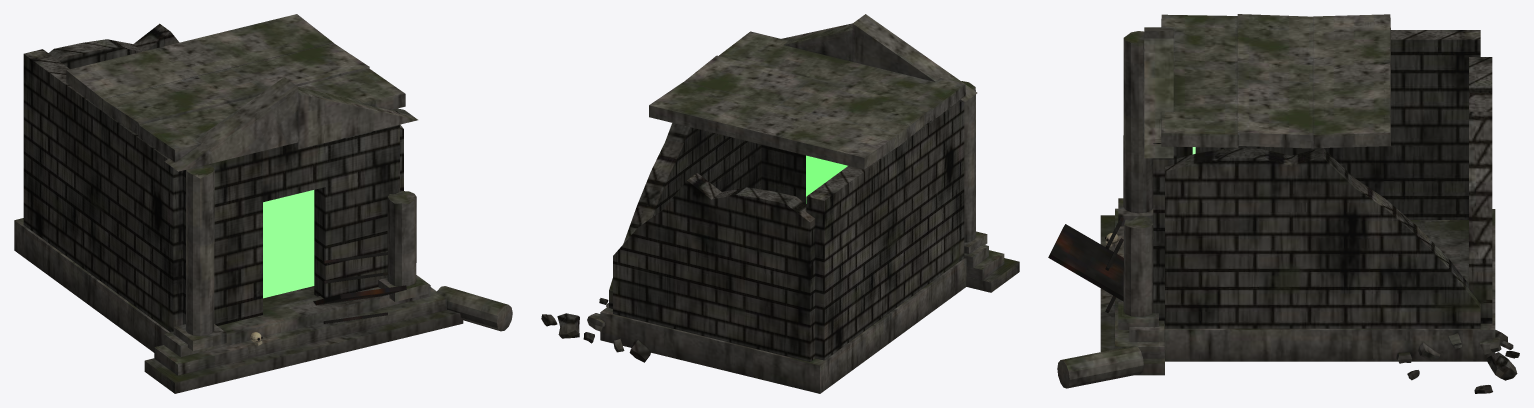
The model's file is crypt_ruin.glb.
3 views of the same model, side by side, from view 1: azimuth 30°, elevation 25°; view 2: azimuth 150°, elevation 25°; view 3: azimuth 270°, elevation 25° (orthographic). The views are drawn at different scales.
Visible parts, largest first — view 1: crypt_ruin, crypt_ruin_glow; view 2: crypt_ruin, crypt_ruin_glow; view 3: crypt_ruin.
Boxes of the visible parts, box(x1,y1,x2,y2) form: crypt_ruin: box(14, 14, 512, 393); crypt_ruin_glow: box(263, 190, 314, 298); crypt_ruin: box(541, 14, 1019, 393); crypt_ruin_glow: box(806, 155, 847, 203); crypt_ruin: box(1048, 14, 1519, 393).
Size of the model in its own units: 6.86 by 5.27 by 8.07.
2 materials, 1 textured.
